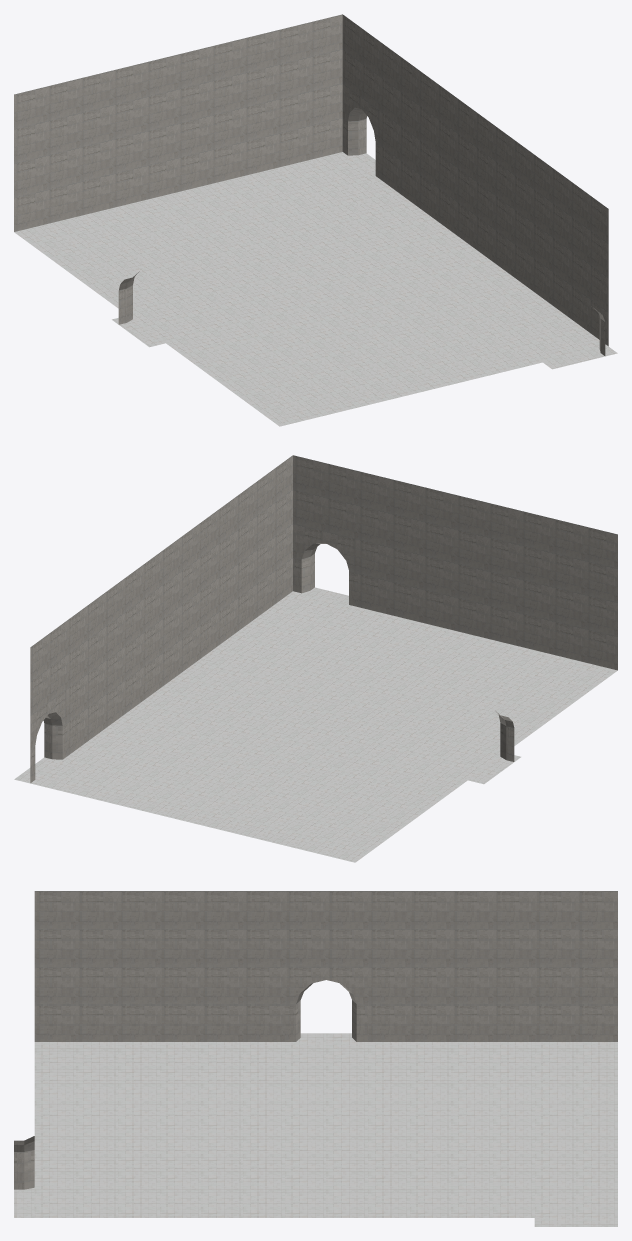
Rendered from Room18.glb.
3 views of the same model, one above another, from view 1: azimuth 30°, elevation 25°; view 2: azimuth 150°, elevation 25°; view 3: azimuth 270°, elevation 25° (orthographic). The views are drawn at different scales.
Visible parts, largest first — view 1: Floor.002, Wall3.002, Wall2.002, Wall4.002; view 2: Floor.002, Wall1.002, Wall2.002, Wall4.002; view 3: Floor.002, Wall4.002, Wall1.002.
Boxes of the visible parts, x1,y1,x2,y2 form: Floor.002: (14, 152, 617, 426); Wall3.002: (14, 14, 342, 231); Wall2.002: (342, 14, 608, 346); Wall4.002: (118, 271, 139, 324); Floor.002: (14, 587, 617, 862); Wall1.002: (293, 455, 617, 670); Wall2.002: (30, 455, 292, 782); Wall4.002: (495, 710, 514, 761); Floor.002: (14, 1033, 617, 1226); Wall4.002: (34, 891, 617, 1041); Wall1.002: (14, 1136, 34, 1189).
Size of the model in its own units: 11 by 4 by 14.5.
3 materials, 3 textured.
